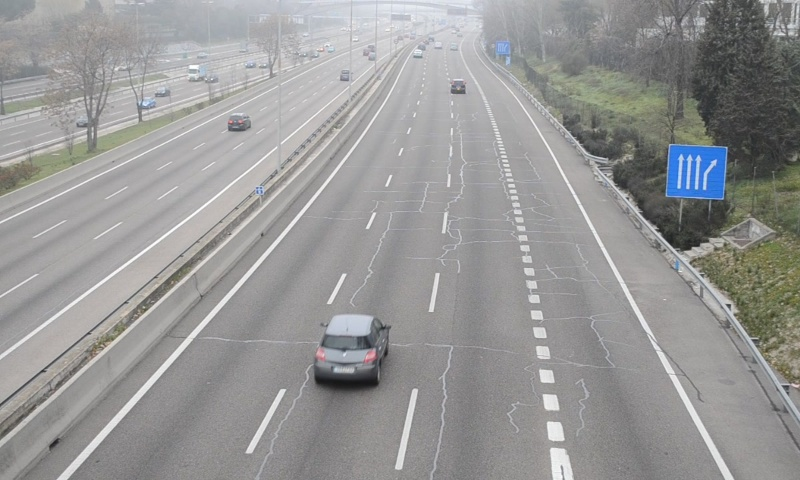car: (313, 316, 388, 382), (450, 78, 466, 94)
